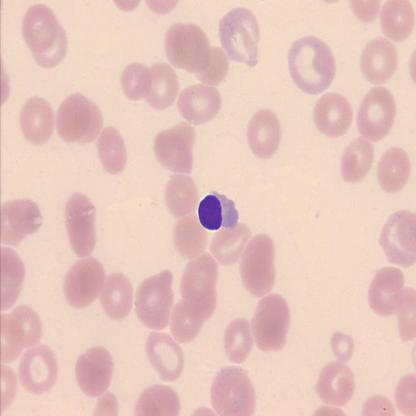NRC: (195, 186, 240, 234)
